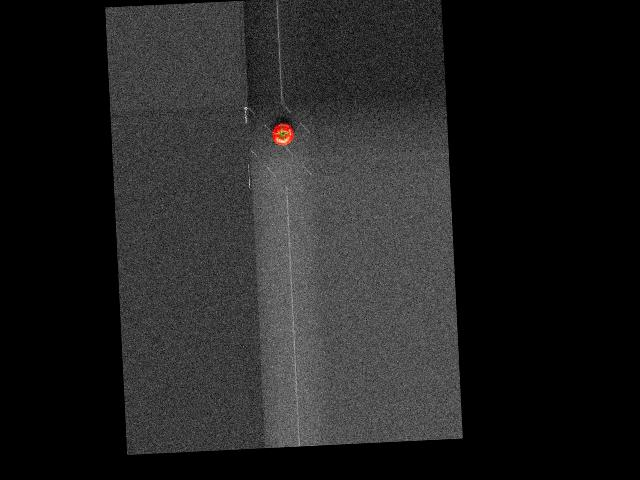tomato: (271, 123, 294, 146)
